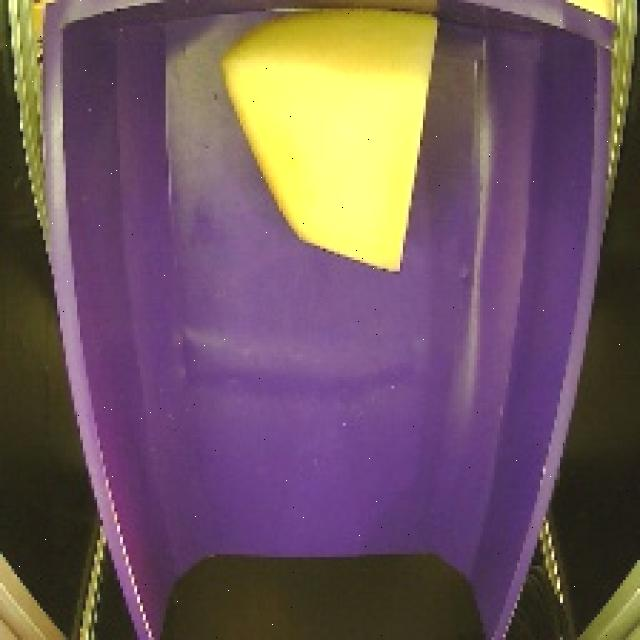potato: (212, 0, 449, 281)
